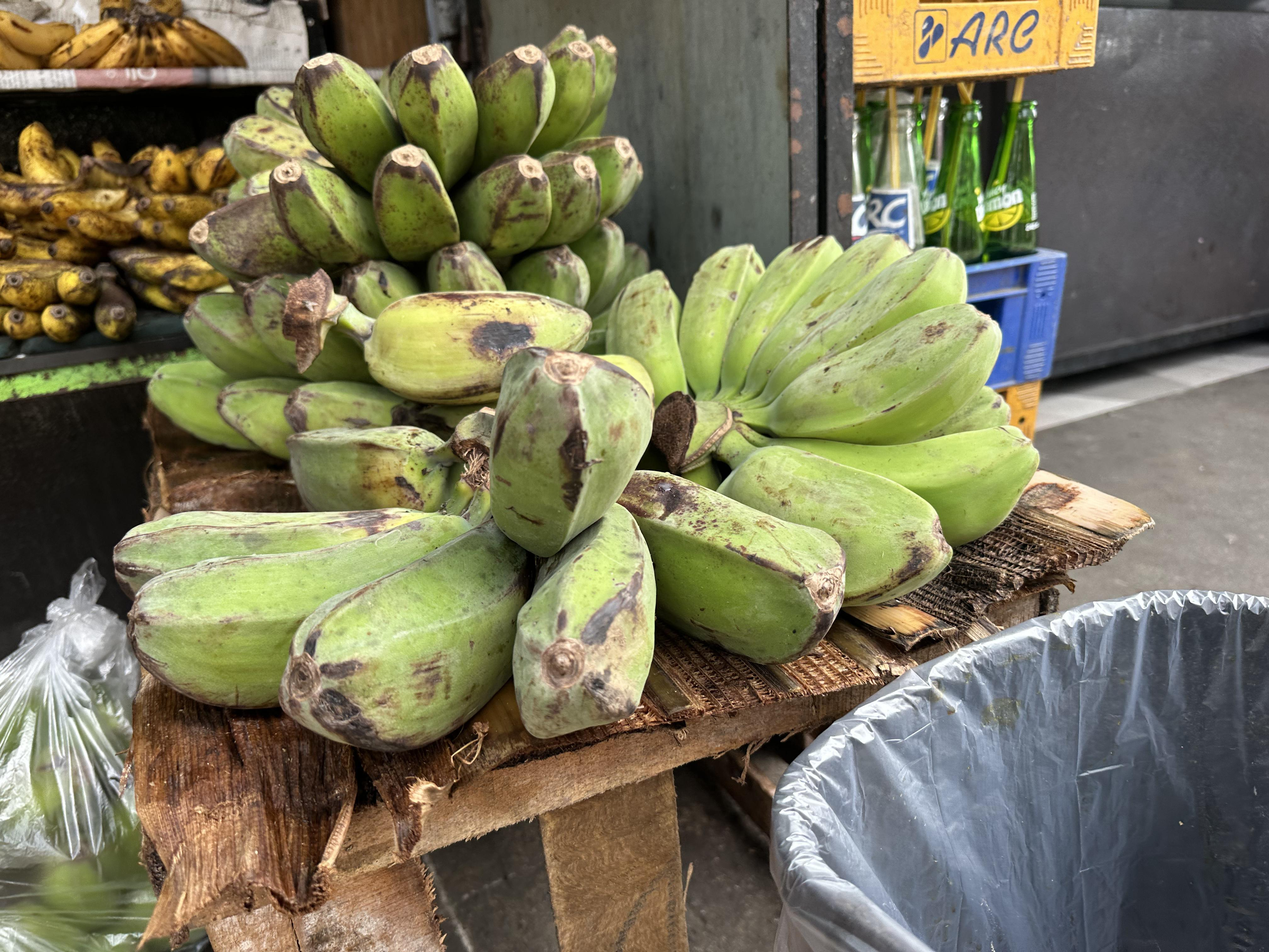underripe: (112, 347, 847, 754), (606, 232, 1040, 608), (190, 23, 647, 289), (147, 274, 479, 462), (338, 218, 649, 316)
